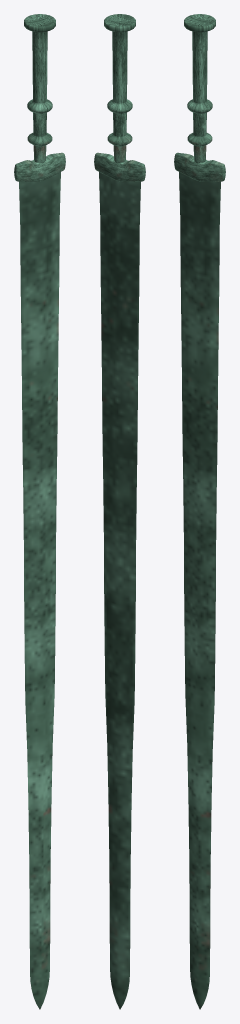
The model's file is model_1775472139284_bf7acb8f.glb.
The picture shows the model from 3 angles, left to right: view 1: azimuth 30°, elevation 25°; view 2: azimuth 150°, elevation 25°; view 3: azimuth 330°, elevation 25°; orthographic projection.
Parts seen in each view (by area): view 1: Cylinder021; view 2: Cylinder021; view 3: Cylinder021.
Part boxes in pixels (x1=…): Cylinder021: x1=14, y1=14, x2=65, y2=1009; Cylinder021: x1=94, y1=14, x2=145, y2=1009; Cylinder021: x1=174, y1=14, x2=225, y2=1009.
Size of the model in its own units: 0.4144 by 7.81 by 0.2312.
1 material, 1 textured.
